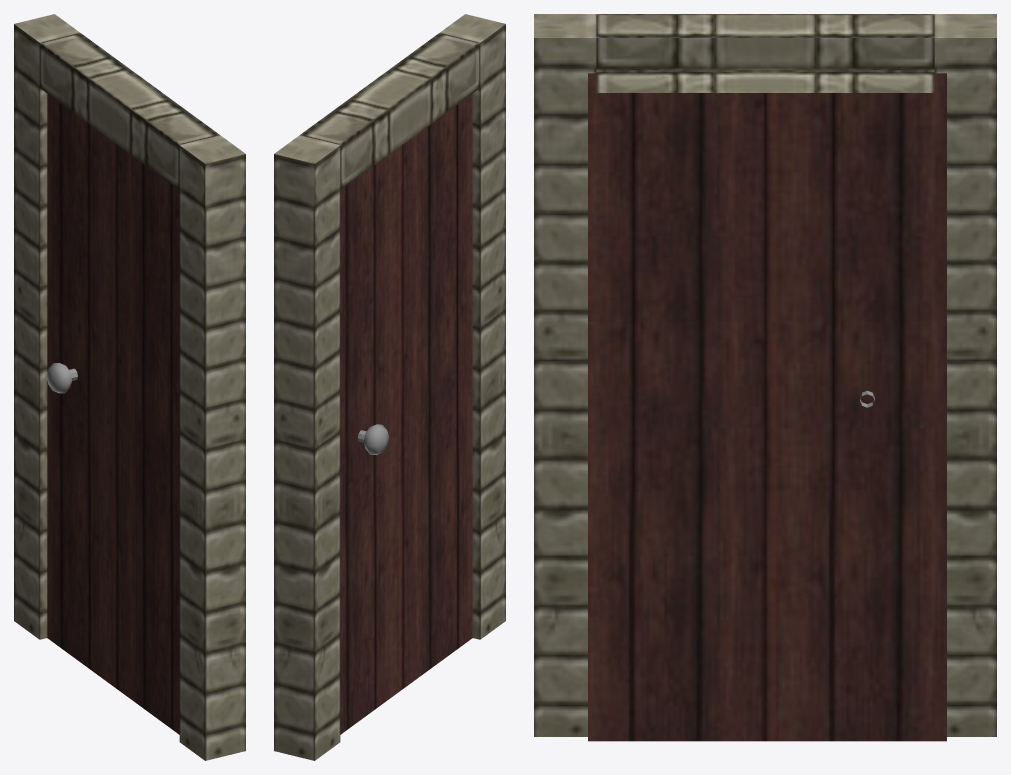
Rendered from drzwi.FBX.
3 views of the same model, side by side, from view 1: azimuth 30°, elevation 25°; view 2: azimuth 150°, elevation 25°; view 3: azimuth 270°, elevation 25° (orthographic). The views are drawn at different scales.
Visible parts, largest first — view 1: door, frame_side, frame_top, handle; view 2: door, frame_side, frame_top, handle; view 3: door, frame_side, frame_top.
Boxes of the visible parts, x1,y1,x2,y2 form: door: (47,94,179,734); frame_side: (14,14,245,760); frame_top: (39,33,219,189); handle: (46,363,77,393); door: (340,94,472,734); frame_side: (274,14,505,760); frame_top: (300,33,480,189); handle: (358,424,389,454); door: (588,73,946,741); frame_side: (534,14,996,736); frame_top: (596,14,934,92).
Size of the model in its own units: 12.6 by 123 by 71.3.
1 material, 1 textured.
